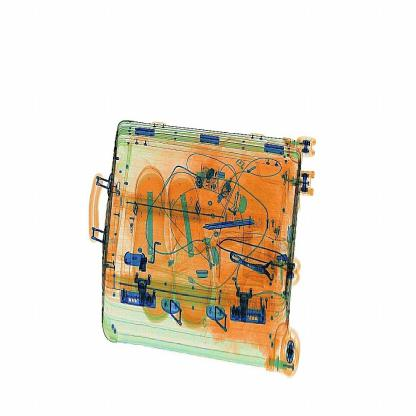pliers: (195, 210, 261, 236)
